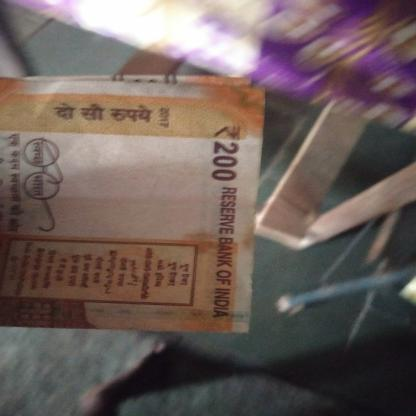New200Back: (4, 77, 253, 328)
